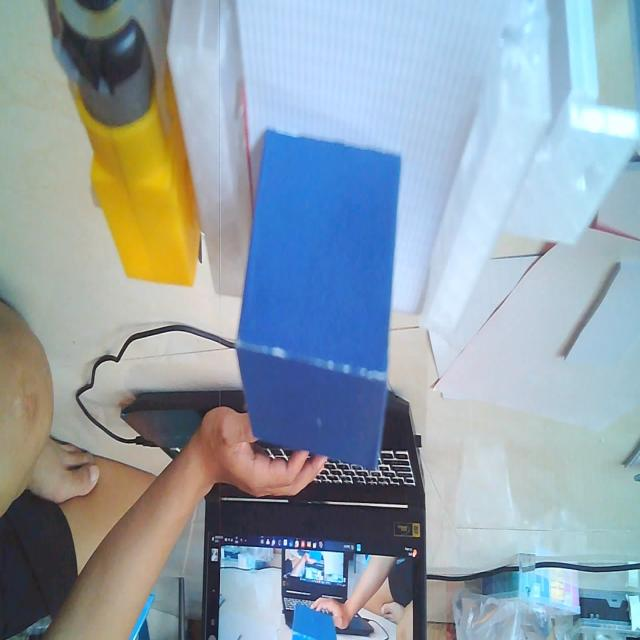blue: (232, 120, 403, 474)
